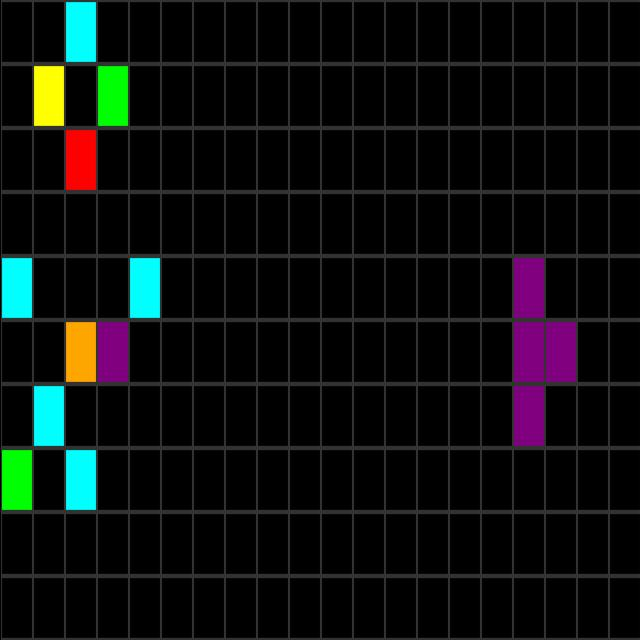Tetrimino_J: (514, 251, 576, 445)
